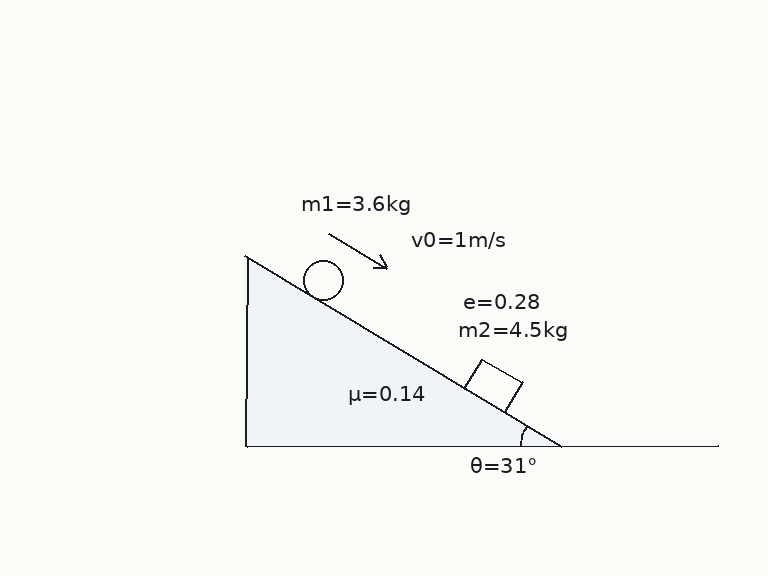ball: (301, 258, 345, 302)
block: (462, 357, 523, 414)
ramp: (244, 254, 563, 448)
